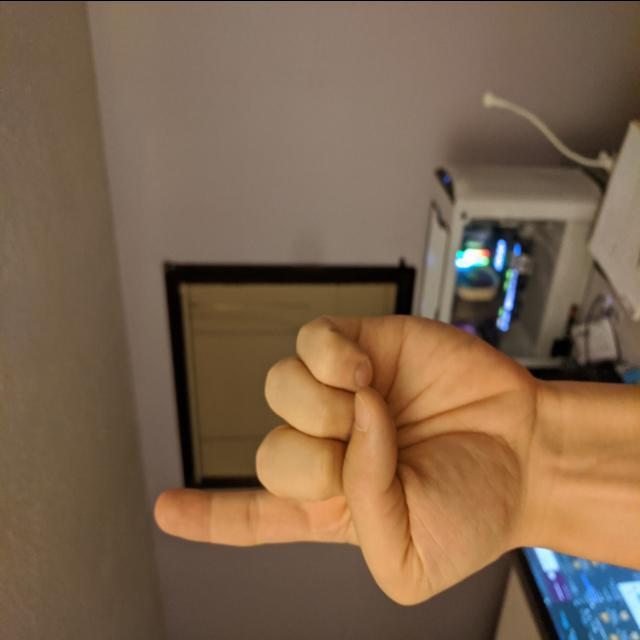D: (148, 306, 544, 612)
